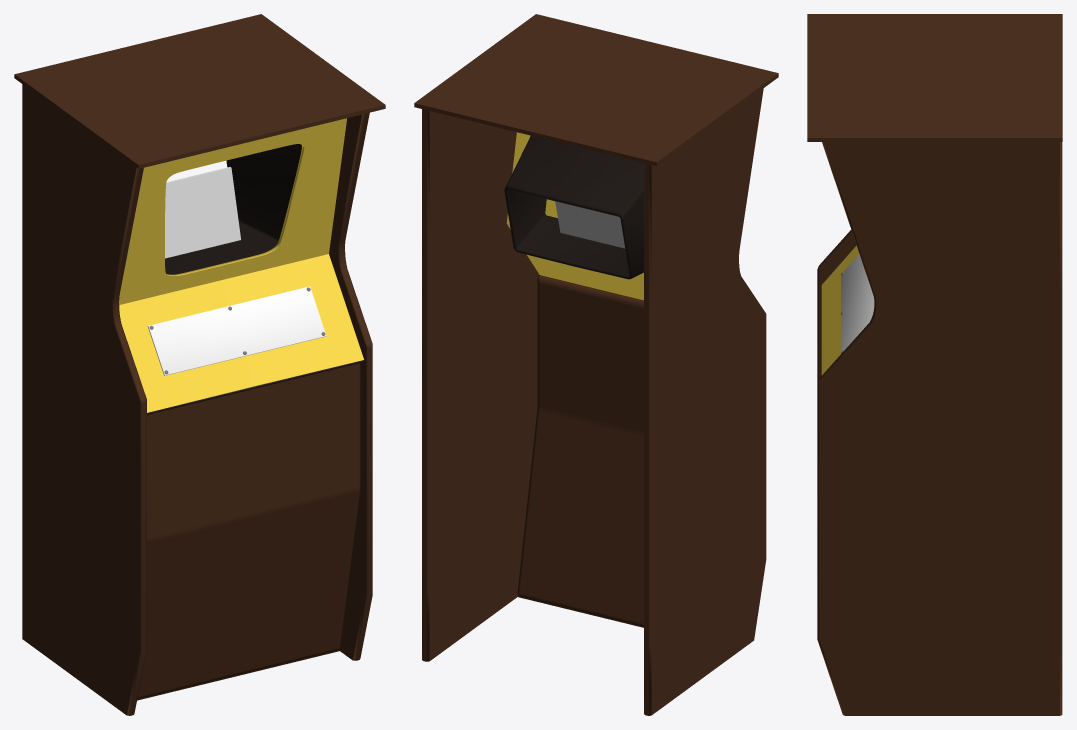
The model's file is arcade_pong_cabinet.glb.
The picture shows the model from 3 angles, left to right: view 1: azimuth 30°, elevation 25°; view 2: azimuth 150°, elevation 25°; view 3: azimuth 270°, elevation 25°; orthographic projection. The views are drawn at different scales.
Visible parts, largest first — view 1: ArcadePongCabinetCaseCoverSide, ArcadePongCabinetCaseCoverFront, ArcadePongCabinetCaseCoverTop, ArcadePongCabinetScreenCover, ArcadePongCabinetControlPlate, ArcadePongCabinetScreenSlot, Cube; view 2: ArcadePongCabinetCaseCoverSide, ArcadePongCabinetCaseCoverFront, ArcadePongCabinetCaseCoverTop, ArcadePongCabinetScreenSlot, ArcadePongCabinetScreenCover, Cube; view 3: ArcadePongCabinetCaseCoverSide, ArcadePongCabinetCaseCoverTop, ArcadePongCabinetControlPlate, ArcadePongCabinetScreenCover.
Boxes of the visible parts, left/top/right/bottom form: ArcadePongCabinetCaseCoverSide: left=22, top=84, right=372, bottom=715; ArcadePongCabinetCaseCoverFront: left=137, top=363, right=360, bottom=700; ArcadePongCabinetCaseCoverTop: left=14, top=14, right=385, bottom=168; ArcadePongCabinetScreenCover: left=119, top=118, right=363, bottom=412; ArcadePongCabinetControlPlate: left=147, top=286, right=326, bottom=375; ArcadePongCabinetScreenSlot: left=165, top=144, right=301, bottom=274; Cube: left=165, top=167, right=240, bottom=258; ArcadePongCabinetCaseCoverSide: left=422, top=88, right=766, bottom=715; ArcadePongCabinetCaseCoverFront: left=517, top=275, right=643, bottom=627; ArcadePongCabinetCaseCoverTop: left=414, top=14, right=778, bottom=166; ArcadePongCabinetScreenSlot: left=504, top=135, right=643, bottom=279; ArcadePongCabinetScreenCover: left=506, top=132, right=643, bottom=300; Cube: left=555, top=201, right=625, bottom=248; ArcadePongCabinetCaseCoverSide: left=817, top=142, right=1062, bottom=715; ArcadePongCabinetCaseCoverTop: left=807, top=14, right=1062, bottom=141; ArcadePongCabinetControlPlate: left=841, top=254, right=874, bottom=352; ArcadePongCabinetScreenCover: left=821, top=245, right=859, bottom=375.
Size of the model in its own units: 0.7805 by 1.71 by 0.6789.
